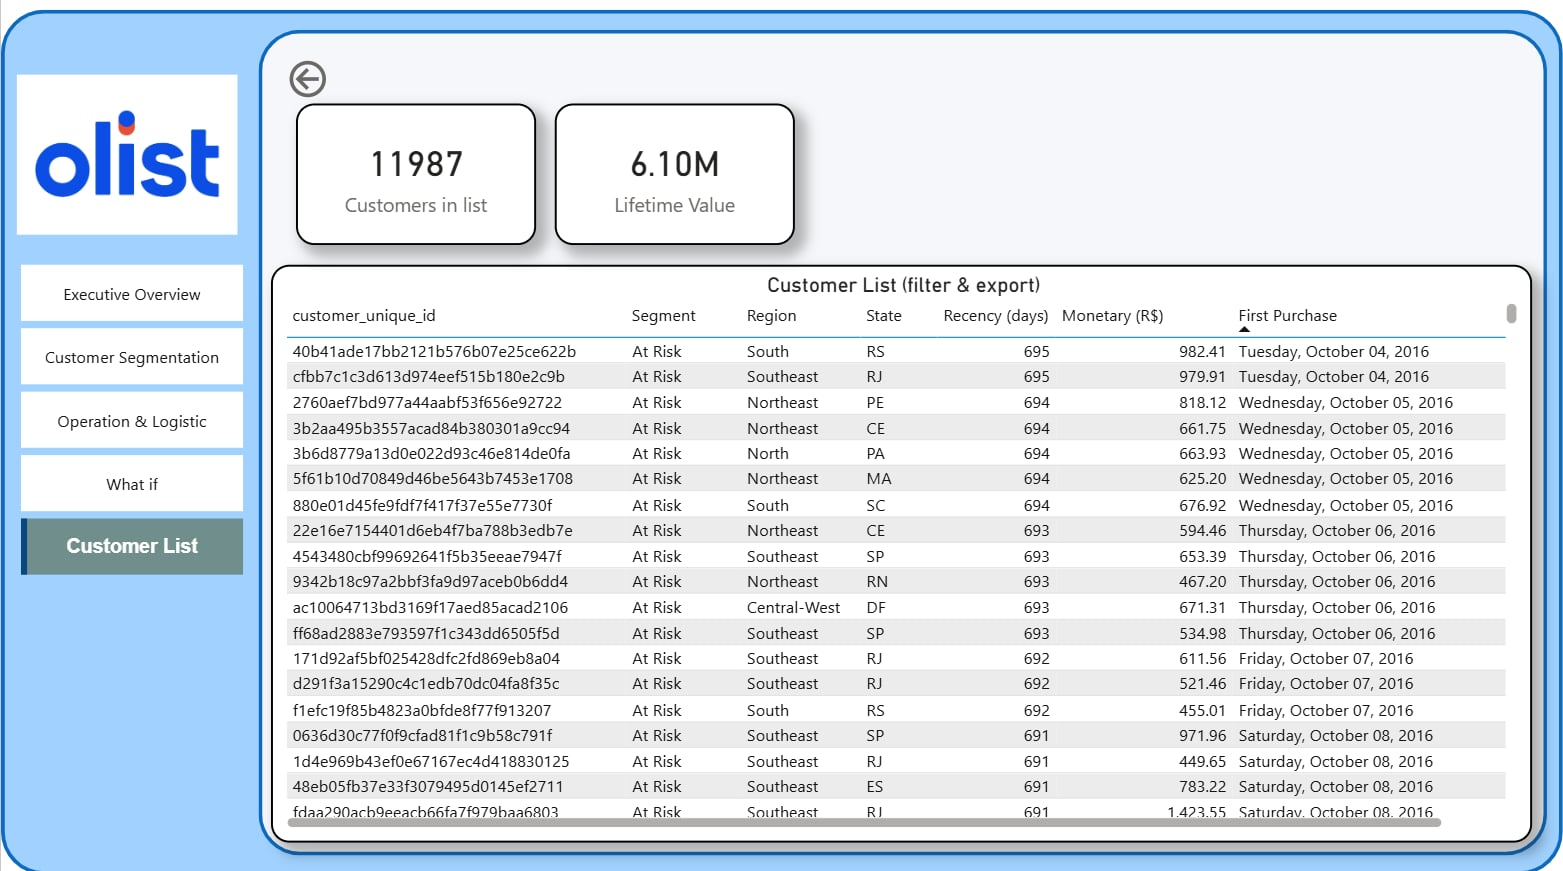

The dashboard page shown, as its layout file describes it:
{"tool":"powerbi","page":{"name":"Customer List","canvas":[1280,720],"ordinal":4},"visuals":[{"type":"shape","box":[0,10.9,1280,709.1],"z":0},{"type":"shape","box":[211.5,27.4,1056.1,676.7],"z":1000},{"type":"tableEx","title":"Customer List (filter & export)","fields":{"Values":["dim_customers.customer_unique_id","dim_customers.current_segment","dim_customers.customer_region","dim_customers.customer_state","fact_rfm_segments.recency","fact_rfm_segments.monetary","dim_customers.first_purchase_date"]},"box":[221.4,220.2,1033.7,473.9],"z":2000},{"type":"actionButton","box":[231.4,48.5,99.5,39.8],"z":3000},{"type":"image","box":[8.7,27.4,190.3,205.3],"z":4000},{"type":"pageNavigator","box":[16.2,220.2,182.9,258.7],"z":5000},{"type":"card","fields":{"Values":["_Measures (2).Customers (RFM)"]},"box":[241.3,88.3,196.5,115.7],"z":6000},{"type":"card","fields":{"Values":["Sum(fact_rfm_segments.monetary)"]},"box":[454,88.3,196.5,115.7],"z":7000}]}

Visuals, with their boxes in screenshot pixels (x1, y1, x2, y2), scaled from the page's 1280x720 canvas onto the 1563x871 screenshot:
shape: box(0, 13, 1562, 870)
shape: box(258, 33, 1548, 852)
"Customer List (filter & export)" tableEx: box(270, 266, 1533, 840)
actionButton: box(283, 59, 404, 107)
image: box(11, 33, 243, 282)
pageNavigator: box(20, 266, 243, 579)
card - _Measures (2).Customers (RFM): box(295, 107, 535, 247)
card - Sum(fact_rfm_segments.monetary): box(554, 107, 794, 247)
